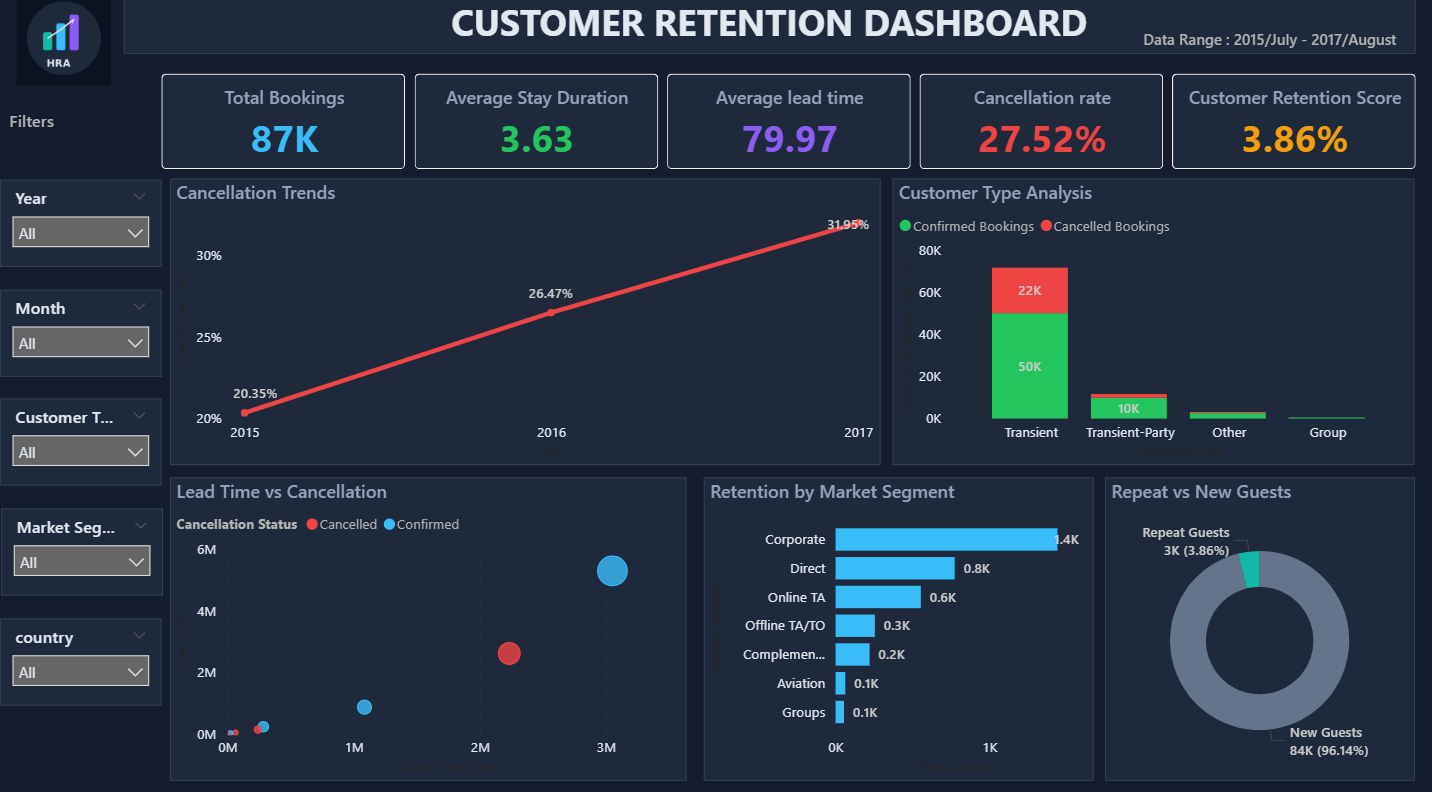

The page's visual inventory and layout, read from the dashboard file:
{"tool":"powerbi","page":{"name":"Customer Retention Dashboard","canvas":[1280,720],"ordinal":0},"visuals":[{"type":"cardVisual","fields":{"Data":["Measures (2).Total_Bookings","Measures (2).Average_Stay_Duration","Measures (2).Average_lead_time","Measures (2).Cancellation_rate","Measures (2).Customer_Retention_Score"]},"box":[126.4,56.4,1153.4,119],"z":0},{"type":"textbox","box":[110,0,1150,56.2],"z":1000},{"type":"donutChart","title":"Repeat vs  New Guests","fields":{"Y":["Guest_Category.Guest Count"],"Category":["Guest_Category.Guest Type"]},"box":[983.8,432.5,276.2,270],"z":2000},{"type":"clusteredBarChart","title":"Retention by Market Segment","fields":{"Category":["cleaned_hotel_bookings.market_segment"],"Y":["Measures (2).Repeat Guests"]},"box":[626.2,432.5,347.5,270],"z":3000},{"type":"lineChart","title":"Cancellation Trends","fields":{"Y":["Measures (2).Cancellation_rate"],"Category":["dimdate.Date.Variation.Date Hierarchy.Year","dimdate.Date.Variation.Date Hierarchy.Quarter","dimdate.Date.Variation.Date Hierarchy.Month","dimdate.Date.Variation.Date Hierarchy.Day"]},"box":[151.2,167.5,632.5,255],"z":4000},{"type":"columnChart","title":"Customer Type Analysis","fields":{"Category":["cleaned_hotel_bookings.Customer Type"],"Y":["Measures (2).Confirmed Bookings","Measures (2).Cancelled Bookings"]},"box":[795,167.5,465,255],"z":5000},{"type":"scatterChart","title":"Lead Time vs Cancellation","fields":{"Y":["Sum(cleaned_hotel_bookings.adr)"],"X":["Sum(cleaned_hotel_bookings.lead_time)"],"Size":["Sum(cleaned_hotel_bookings.total_stay)"],"Series":["cleaned_hotel_bookings.Cancellation Status"],"Category":["cleaned_hotel_bookings.Customer Type"]},"box":[151.2,432.5,460,270],"z":6000},{"type":"textbox","box":[3.8,100,126.2,47.5],"z":7000},{"type":"slicer","fields":{"Values":["cleaned_hotel_bookings.arrival_date_year"]},"box":[0,167.8,143.8,77.5],"z":8000},{"type":"slicer","fields":{"Values":["dimdate.Month_name"]},"box":[0,265.5,143.8,77.5],"z":9000},{"type":"slicer","fields":{"Values":["cleaned_hotel_bookings.Customer Type"]},"box":[0,363.2,143.8,77.5],"z":10000},{"type":"slicer","fields":{"Values":["cleaned_hotel_bookings.market_segment"]},"box":[1.2,461,143.8,77.5],"z":11000},{"type":"slicer","fields":{"Values":["cleaned_hotel_bookings.country"]},"box":[0,558.8,143.8,77.5],"z":12000},{"type":"textbox","box":[1007.5,28.8,241.2,27.5],"z":13000},{"type":"image","box":[1.2,0,111.2,83.8],"z":14000}]}

Visuals, with their boxes in screenshot pixels (x1, y1, x2, y2), scaled from the page's 1280x720 canvas onto the 1432x792 screenshot:
cardVisual - Measures (2).Total_Bookings x Measures (2).Average_Stay_Duration: box(141, 62, 1431, 193)
textbox: box(123, 0, 1410, 62)
"Repeat vs  New Guests" donutChart: box(1101, 476, 1410, 773)
"Retention by Market Segment" clusteredBarChart: box(701, 476, 1089, 773)
"Cancellation Trends" lineChart: box(169, 184, 877, 465)
"Customer Type Analysis" columnChart: box(889, 184, 1410, 465)
"Lead Time vs Cancellation" scatterChart: box(169, 476, 684, 773)
textbox: box(4, 110, 145, 162)
slicer - cleaned_hotel_bookings.arrival_date_year: box(0, 185, 161, 270)
slicer - dimdate.Month_name: box(0, 292, 161, 377)
slicer - cleaned_hotel_bookings.Customer Type: box(0, 400, 161, 485)
slicer - cleaned_hotel_bookings.market_segment: box(1, 507, 162, 592)
slicer - cleaned_hotel_bookings.country: box(0, 615, 161, 700)
textbox: box(1127, 32, 1397, 62)
image: box(1, 0, 126, 92)
